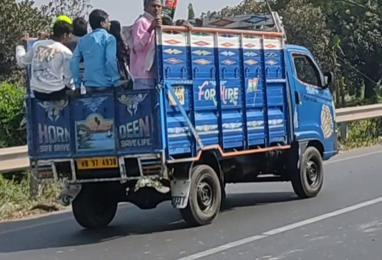Truck: (25, 10, 340, 224)
